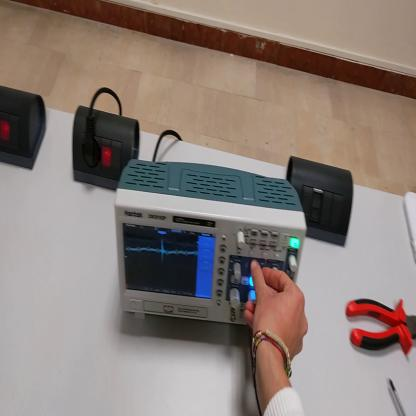hand: (245, 260, 308, 368)
oscilloscope: (113, 159, 307, 326)
pliers: (343, 290, 416, 360)
screwdriver-: (390, 378, 408, 415)
socket: (70, 105, 142, 190), (1, 84, 50, 170)
